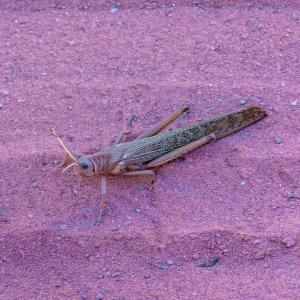locust: (54, 88, 269, 198)
